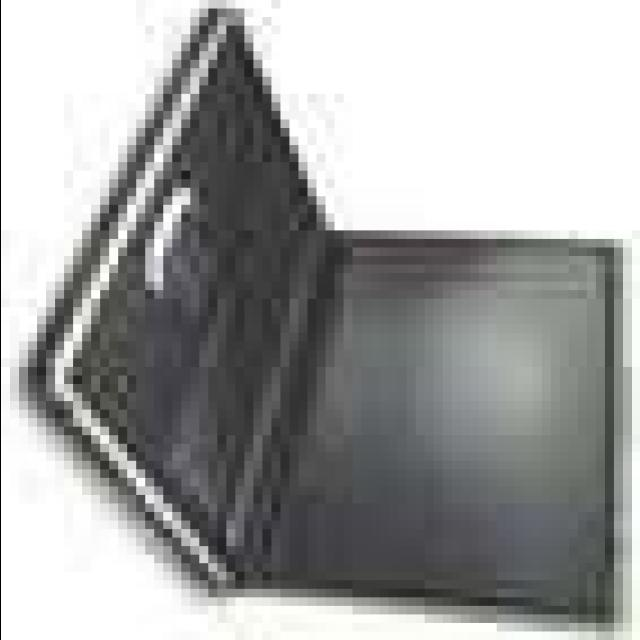laptop: (86, 11, 610, 634)
